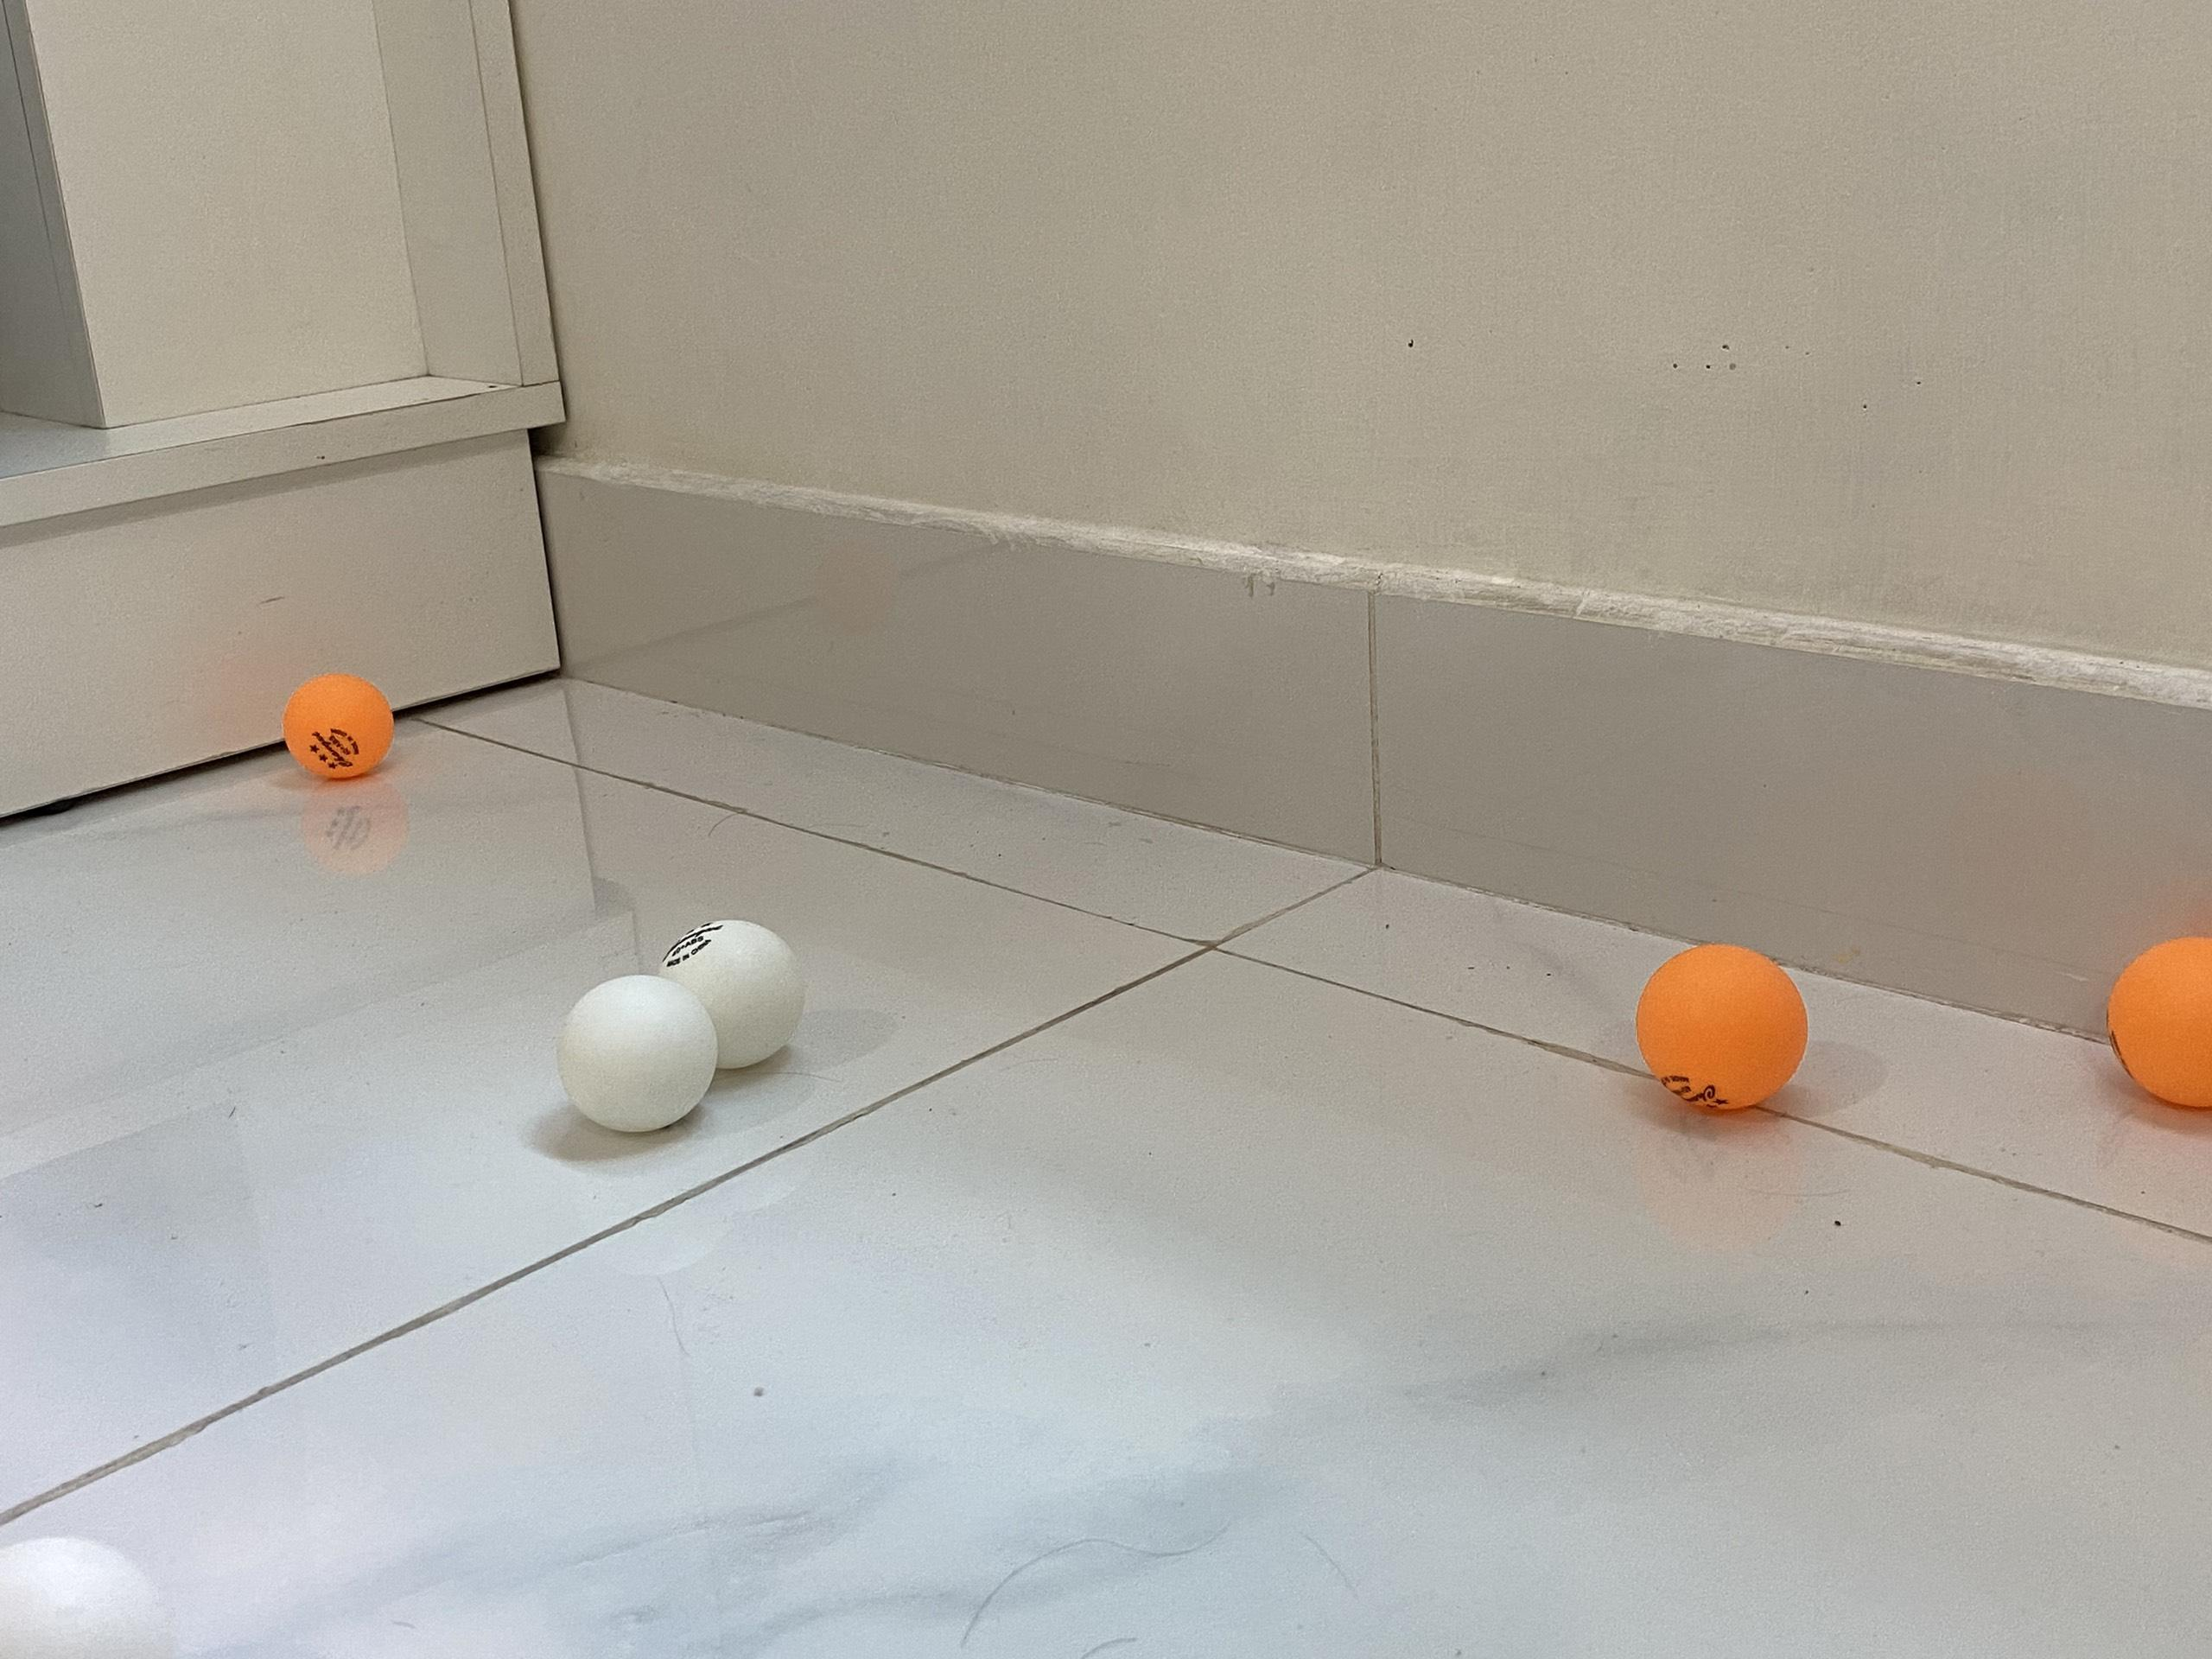oball: (1634, 941, 1810, 1110), (2106, 936, 2212, 1108), (280, 669, 395, 775)
